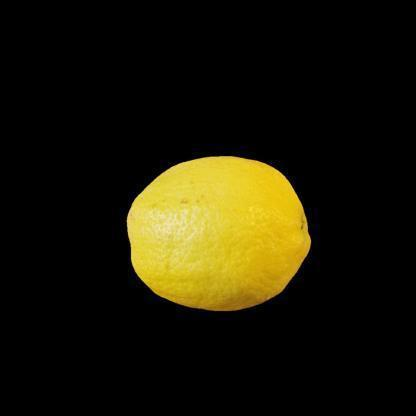lemon: (126, 155, 312, 312)
